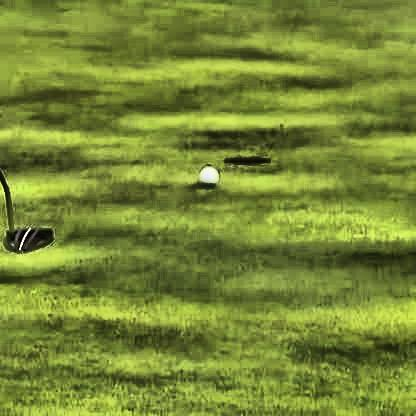golfball: (197, 163, 216, 182)
